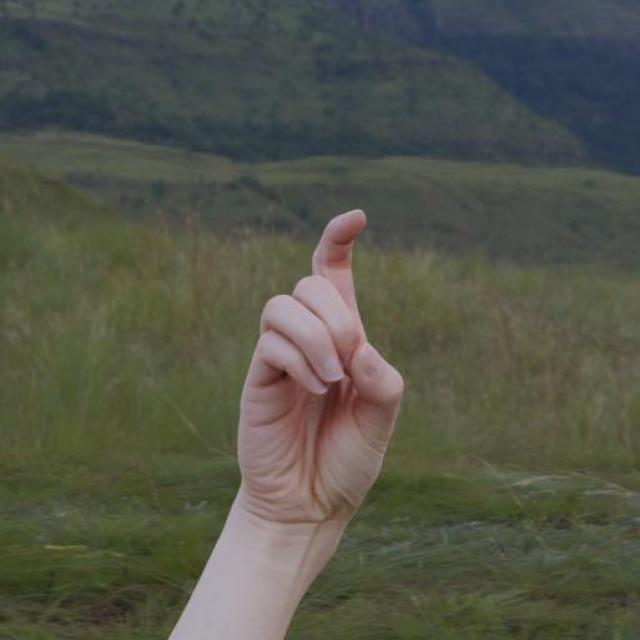X: (229, 207, 409, 528)
